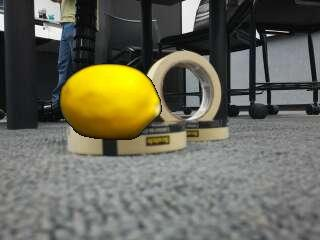lemon: (63, 63, 163, 138)
